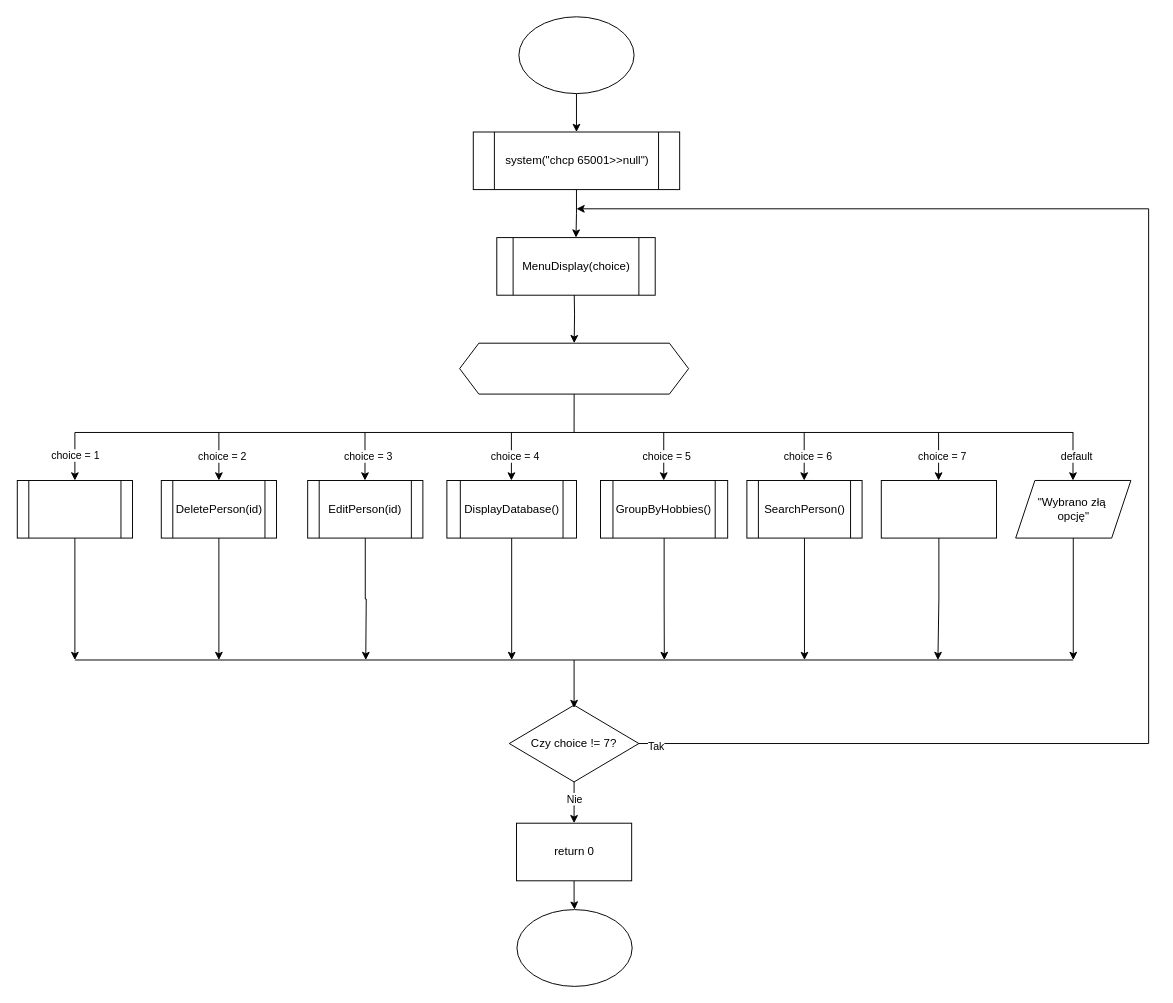
Some shapes in this 1173 by 1003 pixel diagram are drawn without their labels. Here are the shapes that lost their labels. From the top down, the centre of each, then its label:
At (576,55): "Start".
At (574,368): "choice".
At (74,509): "AddPerson()".
At (938,509): "continue".
At (574,947): "Koniec".
